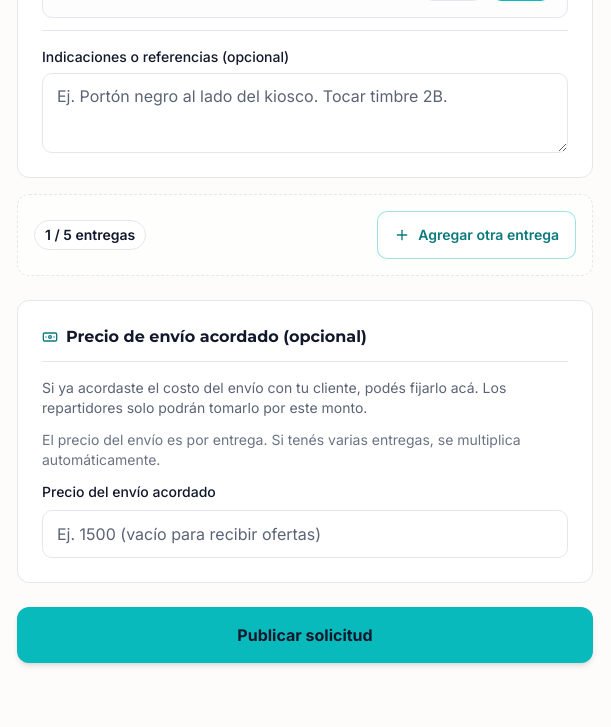
Test case: T-340: CreateRequestForm multi-drop › muestra el switch de asignación automática cuando se ingresa un precio y permite cambiar su estado (DoD T-339)
(page scrolled)
Expected: the switch labelled "asignar al primer repartidor que tome" is not shown
Ingresar precio fijo
Type "1500" into the field labelled "Precio del envío acordado" at (305, 534), box 42,510 -> 568,558
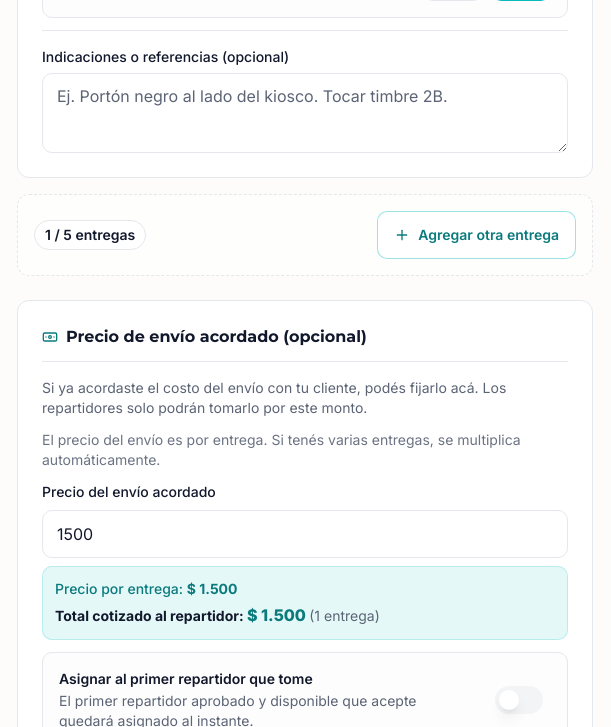
Click activa el switch
Click the switch named "asignar al primer repartidor que tome" at (519, 700), box 487,676 -> 551,724
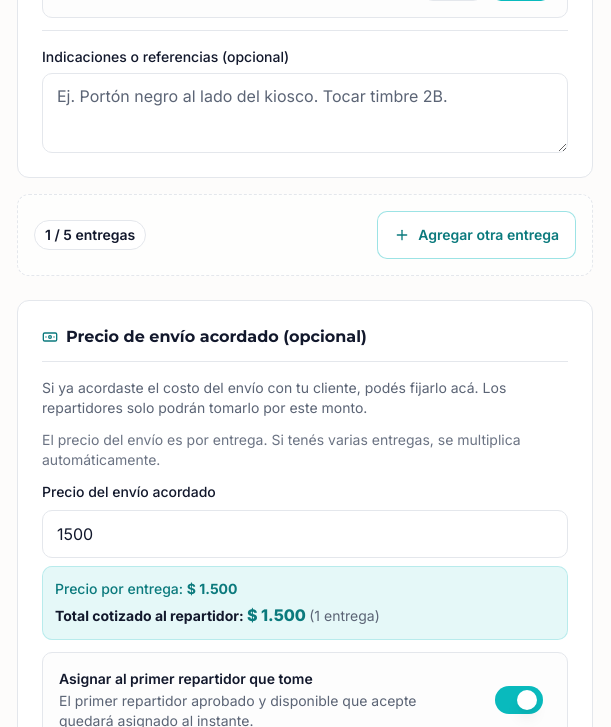
Expected: the switch named "asignar al primer repartidor que tome" is checked, 487,676 -> 551,724
Borrar el precio oculta el switch
Clear the field labelled "Precio del envío acordado" at (305, 534), box 42,510 -> 568,558
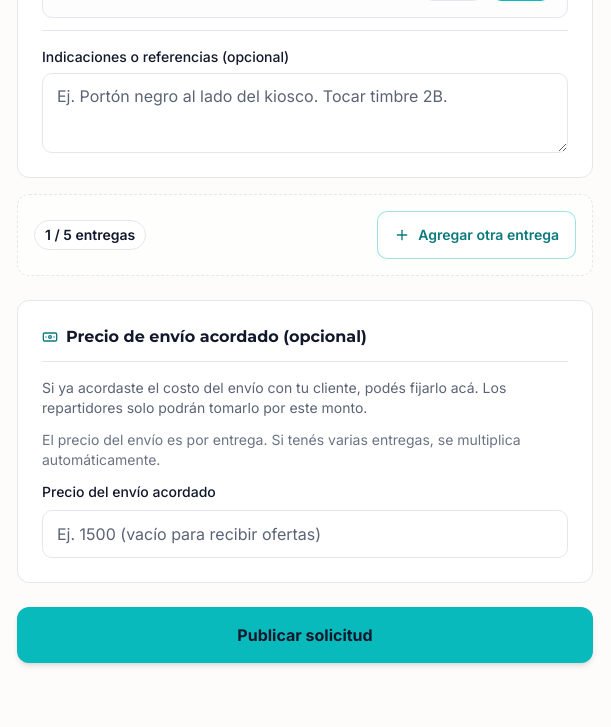
Expected: the label "Asignar al primer repartidor que tome" is gone
